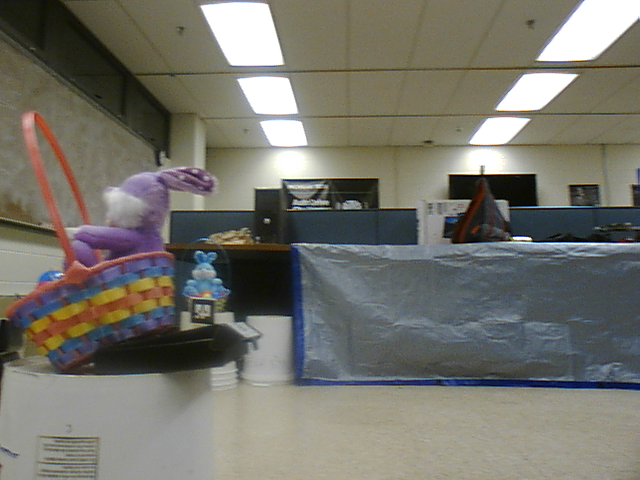bunny: (4, 120, 227, 372), (181, 237, 234, 310)
